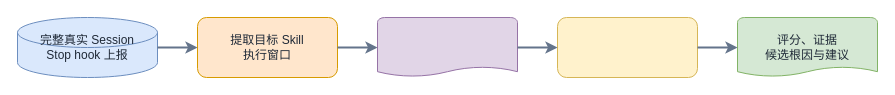
This 895x95 diagram has some shape labels left out. Here are the shapes that lost their labels. From the top down, the centre of each, then its label:
the point at 447,47: Observability 生成 skill_spec
the point at 627,47: Debugger 对照 Trace 查找规则偏离
